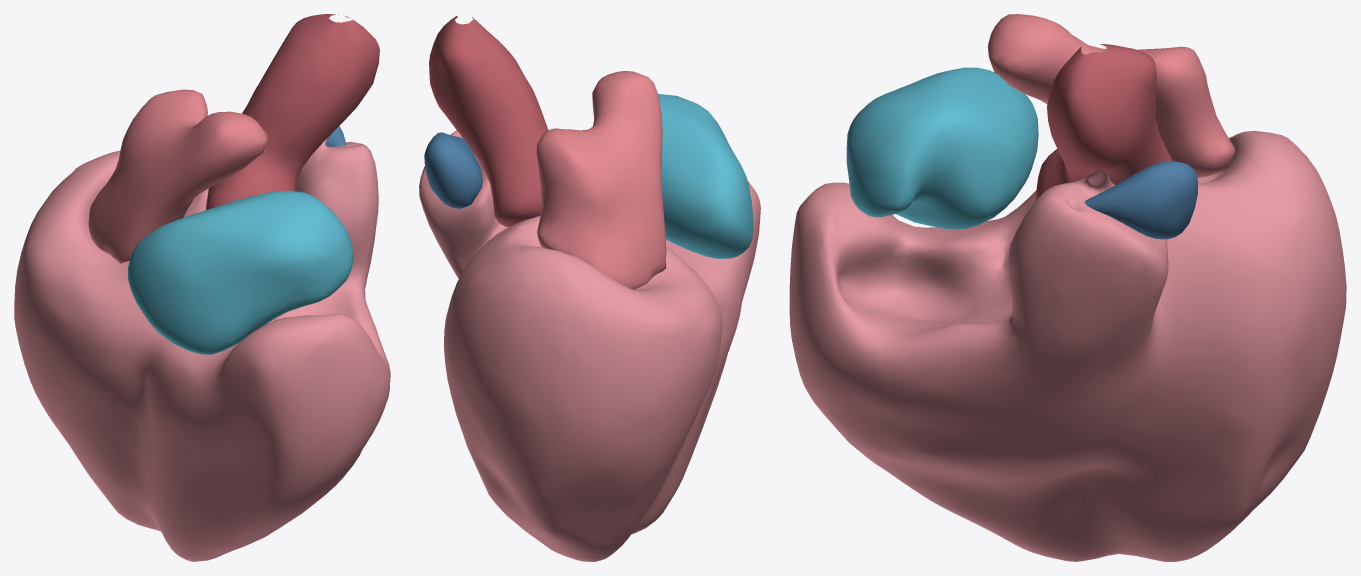
File: frame_68.glb
The picture shows the model from 3 angles, left to right: view 1: azimuth 30°, elevation 25°; view 2: azimuth 150°, elevation 25°; view 3: azimuth 270°, elevation 25°; orthographic projection. The views are drawn at different scales.
Parts seen in each view (by area): view 1: Renderer Node; view 2: Renderer Node; view 3: Renderer Node.
Boxes of the visible parts, left/top/right/bottom form: Renderer Node: left=14, top=14, right=390, bottom=561; Renderer Node: left=419, top=16, right=760, bottom=561; Renderer Node: left=789, top=14, right=1346, bottom=561.
Size of the model in its own units: 107 by 165 by 137.
